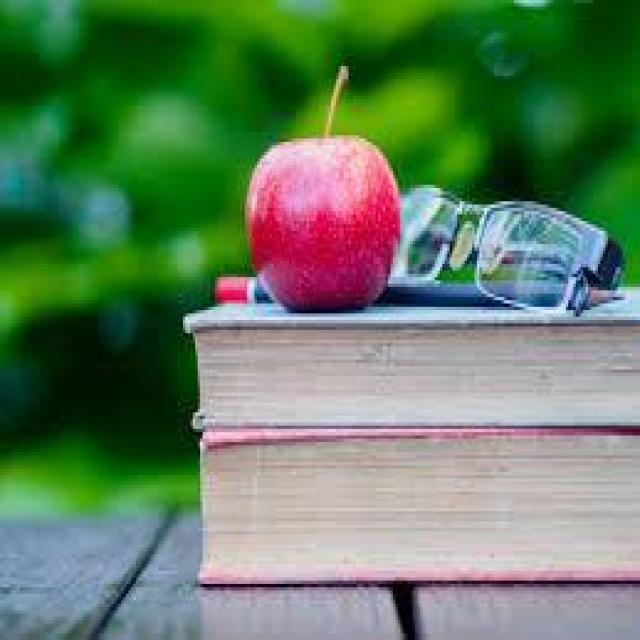maca: (242, 63, 400, 310)
